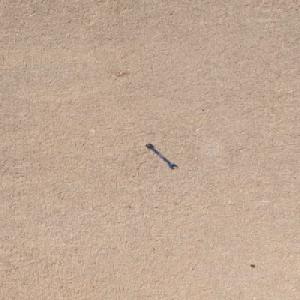Wrench: (144, 143, 178, 169)
